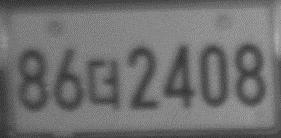0: (199, 43, 230, 107)
2: (124, 46, 159, 111)
4: (162, 44, 198, 109)
6: (50, 48, 85, 111)
8: (15, 49, 49, 111), (234, 43, 267, 106)
더: (85, 57, 122, 110)
